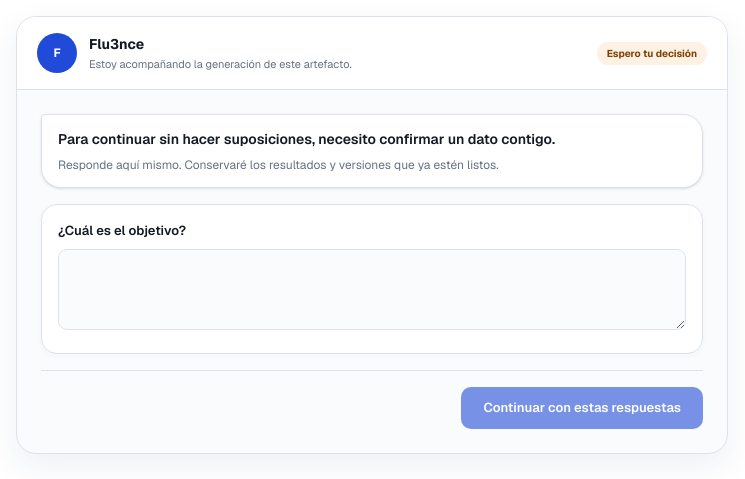
QuestionForm: needs_input › mantiene deshabilitado Continuar hasta contestar una pregunta requerida
Later steps or results of the test are not shown.
Expected: the button "Continuar con estas respuestas" is disabled, x1=462 y1=386 x2=703 y2=428
Type "Reducir el tiempo de aprobación" into the text box at (372,289), box x1=58 y1=249 x2=686 y2=330
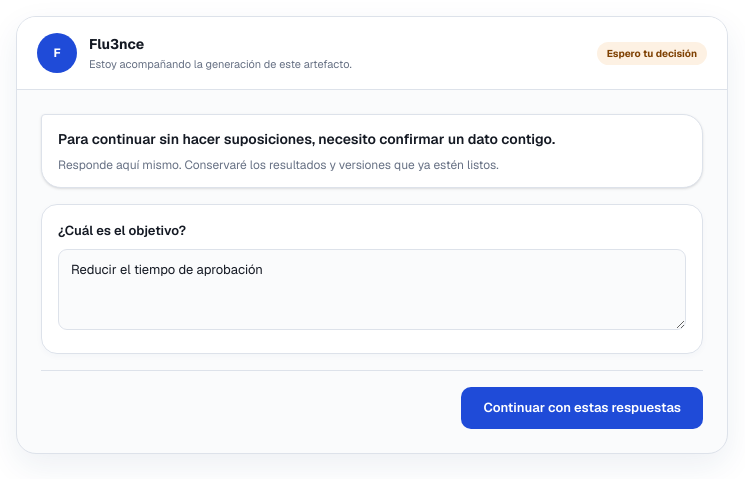
Expected: the button "Continuar con estas respuestas" is enabled, x1=462 y1=386 x2=703 y2=428
